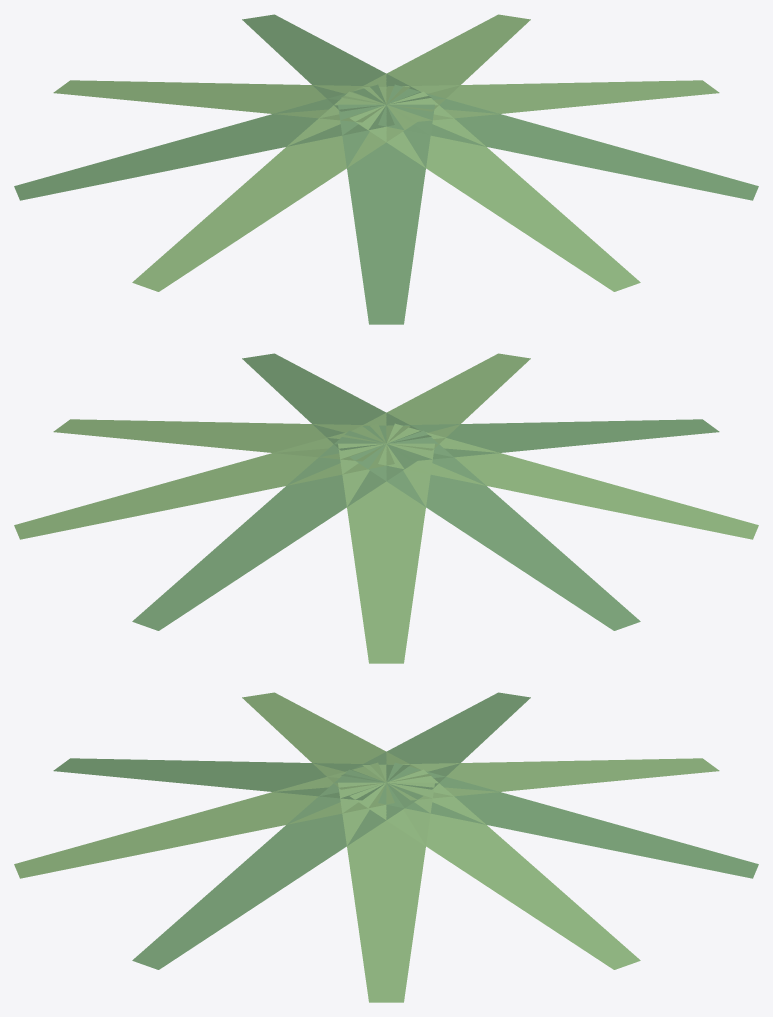
File: veg_fern_02.glb
3 views of the same model, one above another, from view 1: azimuth 30°, elevation 25°; view 2: azimuth 150°, elevation 25°; view 3: azimuth 270°, elevation 25° (orthographic).
Visible parts, largest first — view 1: frond_3, frond_2, frond_4, frond_1, frond_5, frond_6, frond_0, frond_7, frond_8; view 2: frond_6, frond_5, frond_7, frond_4, frond_8, frond_0, frond_3, frond_1, frond_2; view 3: frond_0, frond_8, frond_1, frond_2, frond_7, frond_6, frond_3, frond_4, frond_5.
Boxes of the visible parts, x1,y1,x2,y2 form: frond_3: (338,104,434,324); frond_2: (350,91,640,291); frond_4: (132,91,422,291); frond_1: (378,84,758,200); frond_5: (14,84,394,200); frond_6: (53,80,410,122); frond_0: (362,80,719,122); frond_7: (242,14,431,111); frond_8: (341,14,530,111); frond_6: (338,443,434,663); frond_5: (350,430,640,630); frond_7: (132,430,422,630); frond_4: (378,423,758,539); frond_8: (14,423,394,539); frond_0: (53,419,410,461); frond_3: (362,419,719,461); frond_1: (242,353,431,450); frond_2: (341,353,530,450); frond_0: (338,782,434,1002); frond_8: (350,769,640,969); frond_1: (132,769,422,969); frond_2: (14,762,394,878); frond_7: (378,762,758,878); frond_6: (362,758,719,800); frond_3: (53,758,410,800); frond_4: (242,692,431,789); frond_5: (341,692,530,789).
Size of the model in its own units: 1.91 by 0.1759 by 1.94.
